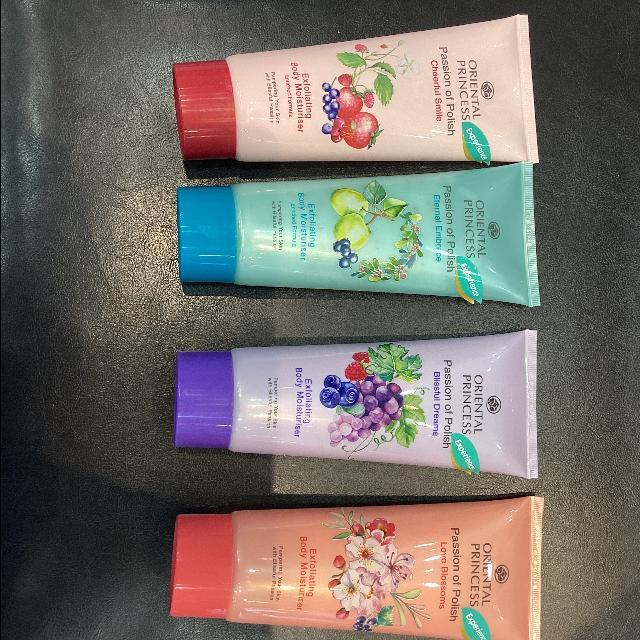Squeeze Tube: (156, 0, 576, 640), (164, 315, 554, 491), (164, 10, 546, 182), (161, 159, 553, 318), (161, 490, 554, 639)
